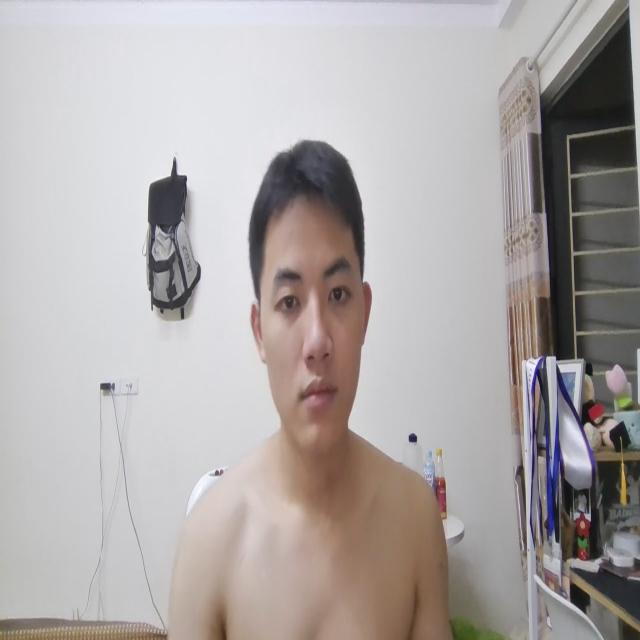student: (184, 132, 450, 638)
